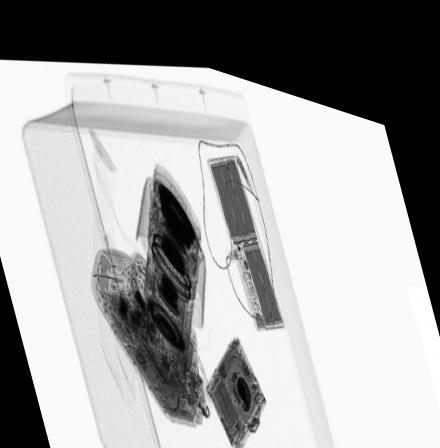Powerbank: (205, 137, 287, 315)
